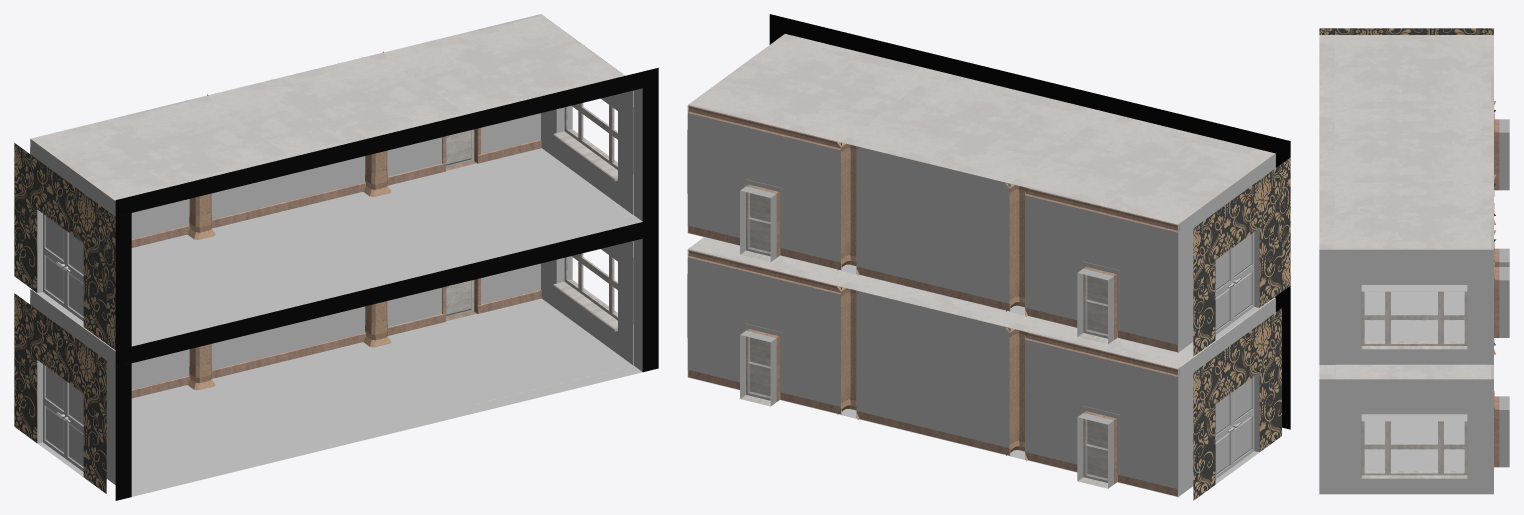
File: Hallways_right.fbx
3 renders of one model, left to right at view 1: azimuth 30°, elevation 25°; view 2: azimuth 150°, elevation 25°; view 3: azimuth 270°, elevation 25°, orthographic. The views are drawn at different scales.
Parts seen in each view (by area): view 1: Floor_hallway.005, Floor_hallway.014, Floor_hallway.016, Floor_hallway.007, Ceiling_hallway.016, Ceiling_hallway.017, Ceiling_hallway.015, Wall_mainfloor.016, Wall_mainfloor.020, Floor_hallway.015, Floor_hallway.006, Wall_Window_hallway..003 (+38 smaller); view 2: Wall_Door_hallway.005, Wall_Door_hallway.009, Wall_Door_hallway.008, Wall_Door_hallway.004, Wall_hallway.005, Wall_hallway.003, Ceiling_hallway.016, Ceiling_hallway.017, Ceiling_hallway.015, Wall_mainfloor.016, Wall_mainfloor.020, Wall_mainfloor.015 (+18 smaller); view 3: Wall_Window_hallway..005, Wall_Window_hallway..003, Ceiling_hallway.016, Ceiling_hallway.017, Ceiling_hallway.015, Floor_hallway.014, Floor_hallway.005, Ceiling_hallway.009, Cube.153, Cube.157, Wall_Door_hallway.009, Wall_Door_hallway.008 (+11 smaller).
Boxes of the visible parts, x1,y1,x2,y2 form: Floor_hallway.005: (387,298,632,404); Floor_hallway.014: (387,148,632,253); Floor_hallway.016: (212,192,456,296); Floor_hallway.007: (212,342,457,447); Ceiling_hallway.016: (206,57,449,157); Ceiling_hallway.017: (382,15,624,114); Ceiling_hallway.015: (30,101,273,200); Wall_mainfloor.016: (14,289,115,493); Wall_mainfloor.020: (14,139,115,343); Floor_hallway.015: (131,234,281,337); Floor_hallway.006: (131,385,281,487); Wall_Window_hallway..003: (541,241,633,364); Wall_Door_hallway.005: (1025,330,1179,497); Wall_Door_hallway.009: (1025,186,1179,352); Wall_Door_hallway.008: (687,104,841,270); Wall_Door_hallway.004: (687,248,841,414); Wall_hallway.005: (856,146,1010,311); Wall_hallway.003: (856,290,1010,455); Ceiling_hallway.016: (856,81,1097,183); Ceiling_hallway.017: (690,40,928,142); Ceiling_hallway.015: (1027,122,1265,224); Wall_mainfloor.016: (1178,304,1281,500); Wall_mainfloor.020: (1178,160,1281,356); Wall_mainfloor.015: (1215,376,1254,478); Wall_Window_hallway..005: (1335,249,1493,364); Wall_Window_hallway..003: (1335,379,1493,494); Ceiling_hallway.016: (1335,108,1493,175); Ceiling_hallway.017: (1335,182,1493,249); Ceiling_hallway.015: (1335,35,1493,101); Floor_hallway.014: (1335,297,1492,364); Floor_hallway.005: (1364,427,1464,470); Ceiling_hallway.009: (1335,365,1490,379); Cube.153: (1319,379,1335,494); Cube.157: (1319,249,1335,364); Wall_Door_hallway.009: (1491,75,1509,190); Wall_Door_hallway.008: (1491,223,1509,364).
Bounding box in the file's own units: 1700 × 900 × 601.
